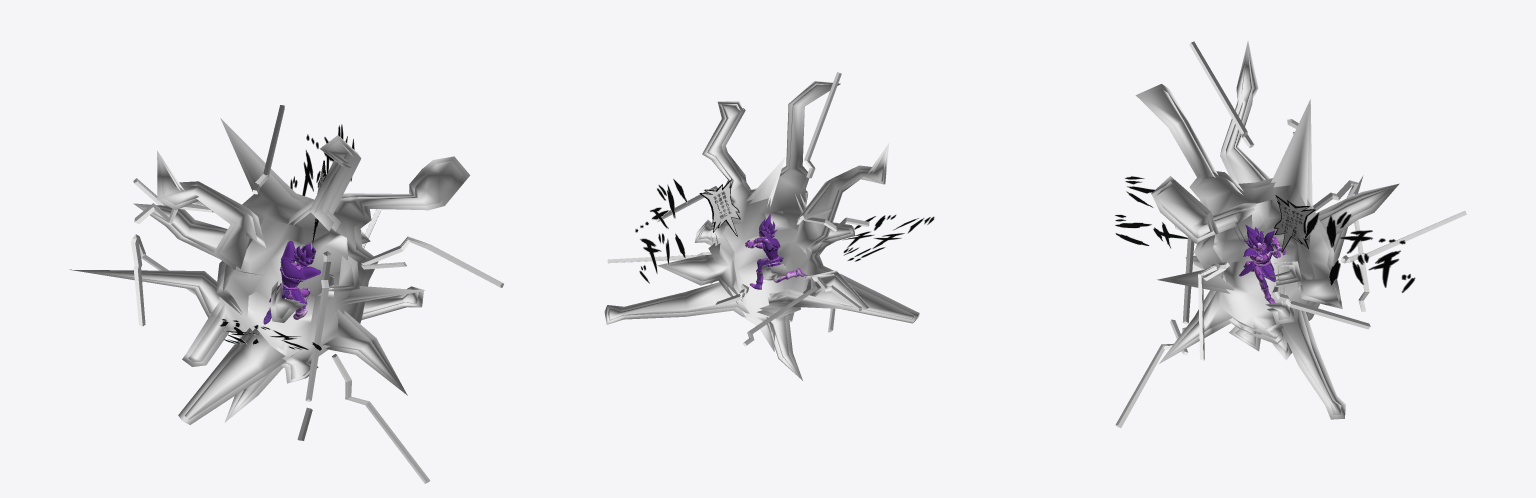
The model's file is vegeta1.glb.
3 views of the same model, side by side, from view 1: azimuth 30°, elevation 25°; view 2: azimuth 150°, elevation 25°; view 3: azimuth 270°, elevation 25° (orthographic). The views are drawn at different scales.
Parts seen in each view (by area): view 1: GEO_Effect, GEO_Main, V_SE_02_0.001, V_SE_01_0.001; view 2: GEO_Effect, V_SE_01_0.001, Geo_Text_0.001, V_SE_02_0.001, GEO_Main, GEO_Main_2.001; view 3: GEO_Effect, V_SE_01_0.001, Geo_Text_0.001, V_SE_02_0.001, GEO_Main.
Part boxes in pixels (x1,y1,x2,y2): GEO_Effect: [69, 105, 503, 483]; GEO_Main: [269, 241, 320, 309]; V_SE_02_0.001: [219, 319, 322, 350]; V_SE_01_0.001: [290, 124, 354, 195]; GEO_Effect: [604, 72, 919, 380]; V_SE_01_0.001: [635, 178, 687, 283]; Geo_Text_0.001: [699, 179, 740, 236]; V_SE_02_0.001: [842, 214, 934, 261]; GEO_Main: [756, 214, 782, 271]; GEO_Main_2.001: [749, 254, 807, 289]; GEO_Effect: [1115, 41, 1466, 427]; V_SE_01_0.001: [1304, 211, 1415, 292]; Geo_Text_0.001: [1274, 195, 1315, 252]; V_SE_02_0.001: [1114, 176, 1187, 248]; GEO_Main: [1239, 224, 1275, 281].
Size of the model in its own units: 44.93 by 42.66 by 42.42.
14 materials, 10 textured.
